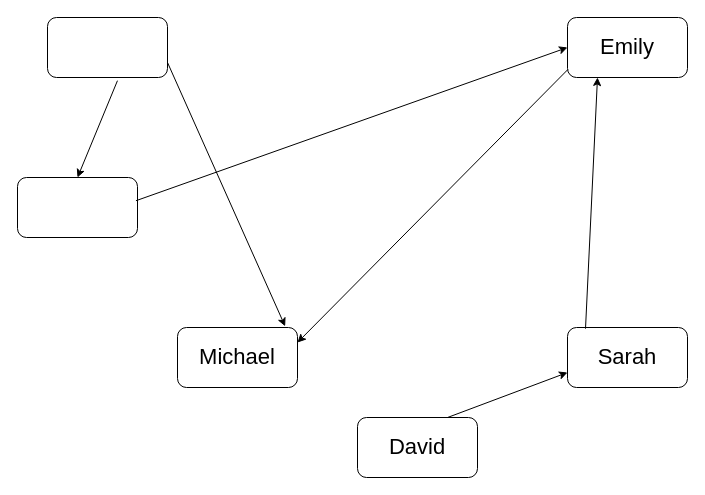
This 705x495 diagram has some shape labels left out. Here are the shapes that lost their labels. From the top down, the centre of each, then its label:
At point 107,47: "John".
At point 77,207: "Jane".
